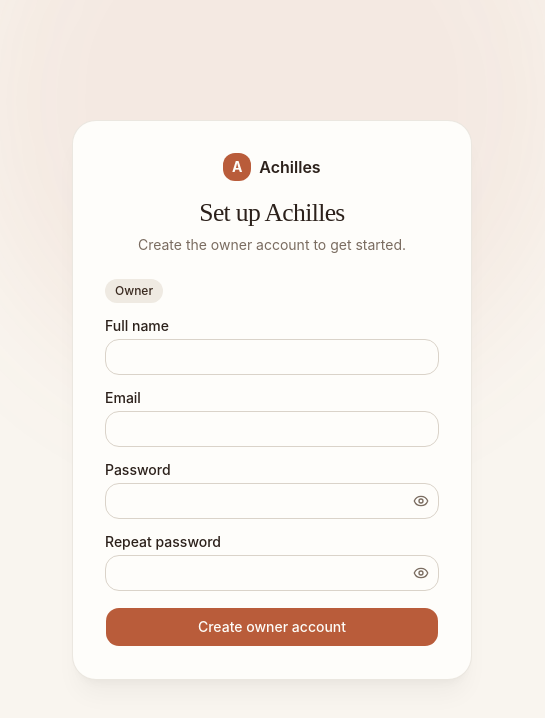
Test: SetupWizardPage › shows the already-set-up state on 404
In the field labelled "Full name": (272, 357) [105,339,439,375], type "First Owner"
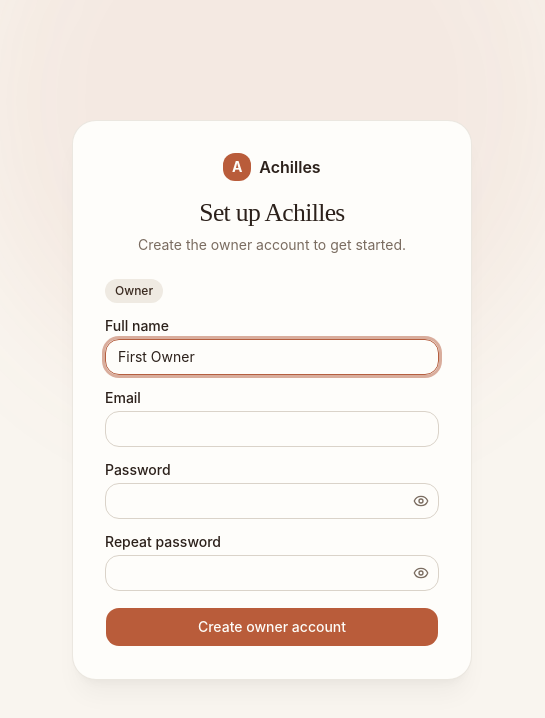
In the field labelled "Email": (272, 429) [105,411,439,447], type "owner@acme.example"
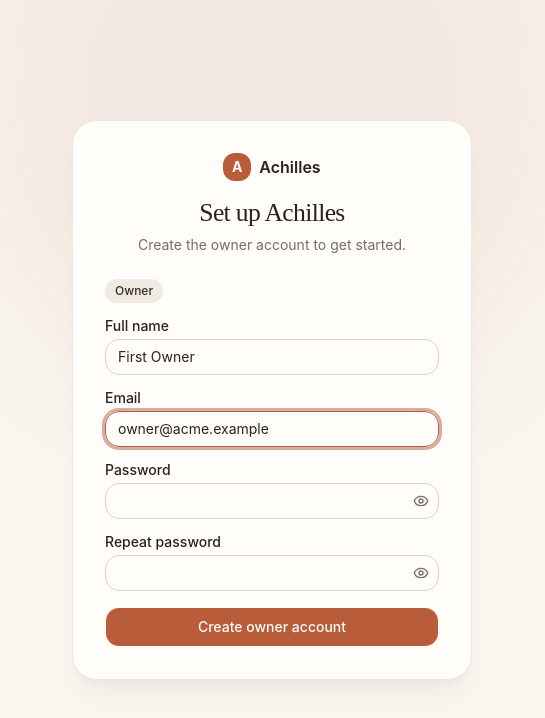
In the password field labelled "Password": (272, 501) [105,483,439,519], type "a-strong-passphrase-2026"
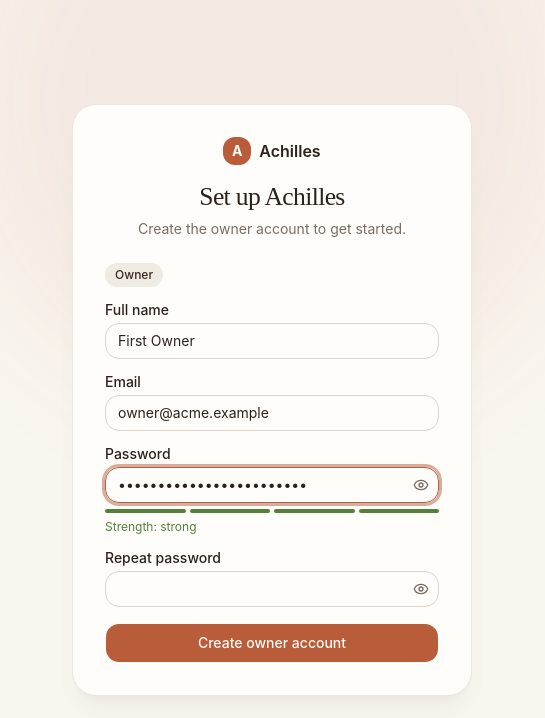
In the password field labelled "Repeat password": (272, 589) [105,571,439,607], type "a-strong-passphrase-2026"
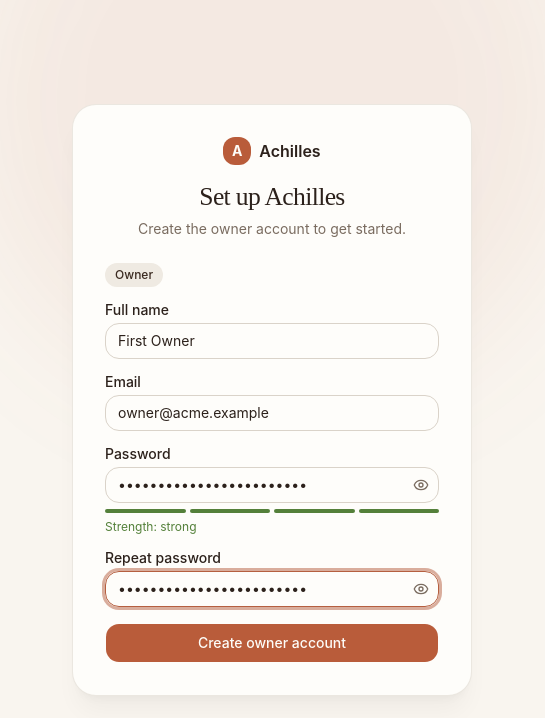
Click the button "Create owner account": (272, 643) [105,623,439,663]
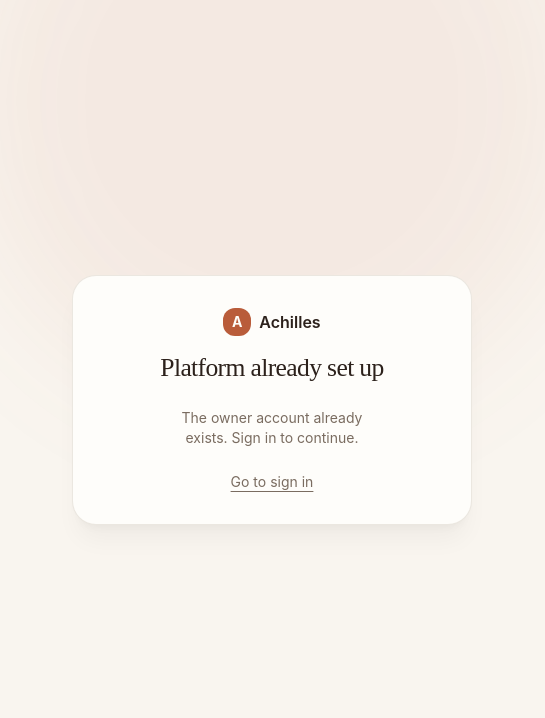
Expected: the heading "Platform already set up" is shown, [160,352,384,384]
